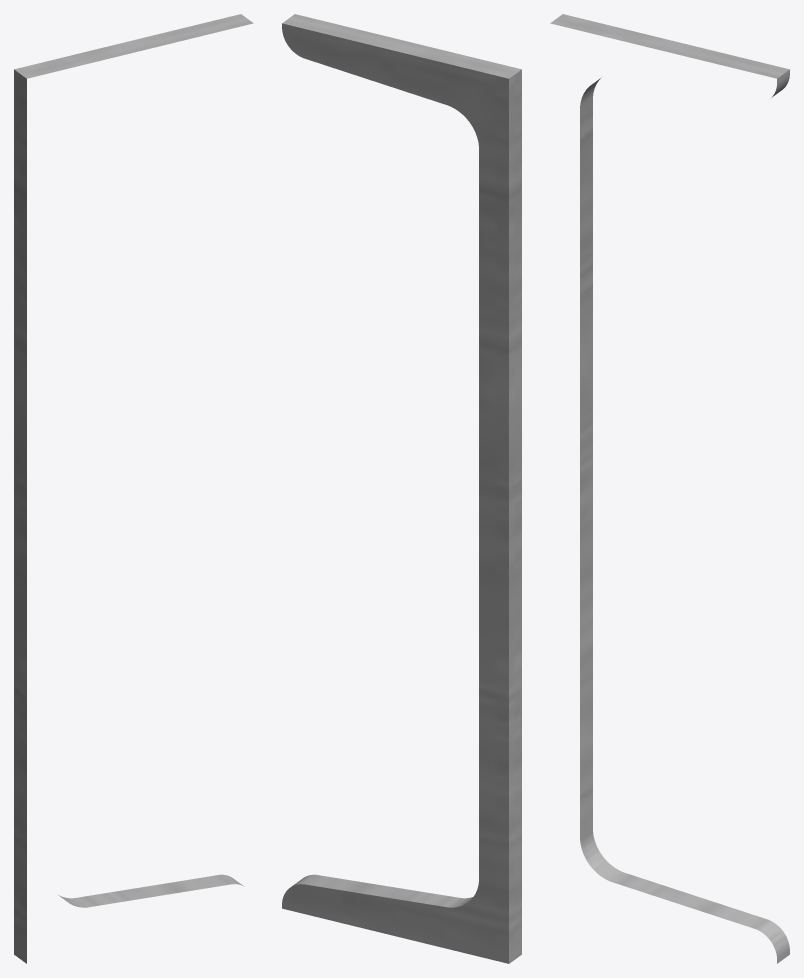
File: UPN380.glb
3 views of the same model, side by side, from view 1: azimuth 30°, elevation 25°; view 2: azimuth 150°, elevation 25°; view 3: azimuth 330°, elevation 25° (orthographic).
Bounding box in the file's own units: 10.2 × 38 × 1.
1 material, 1 textured.
